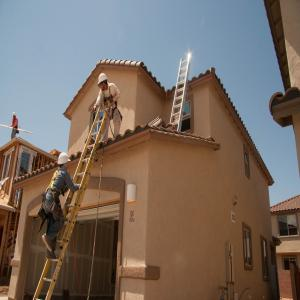white: (58, 153, 71, 171), (99, 74, 108, 91), (13, 113, 17, 119)
